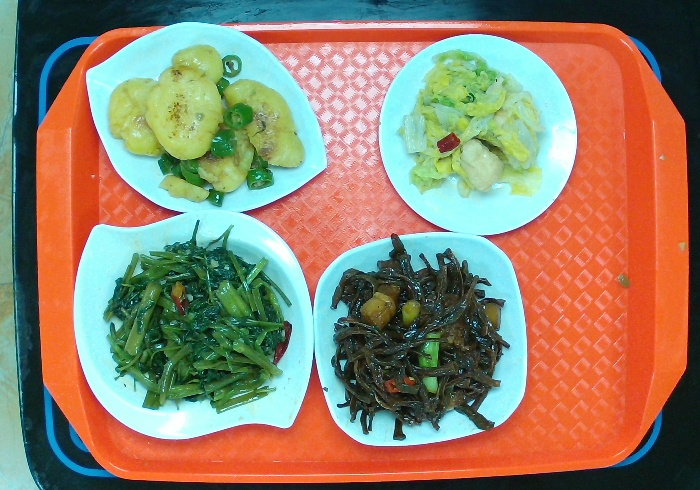RJxy-Da_Du_Pan: (78, 15, 330, 223)
RJxy-Shuang_Jiao_Pan: (71, 209, 319, 446)
RJxy-Si_Fang_Wan: (311, 225, 536, 452)
RJxy-Xiao_Yuan_Die: (370, 23, 584, 245)
